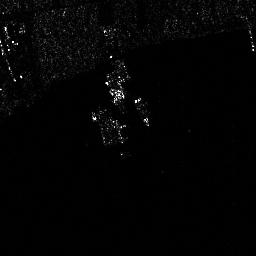ship: (134, 96, 149, 128)
